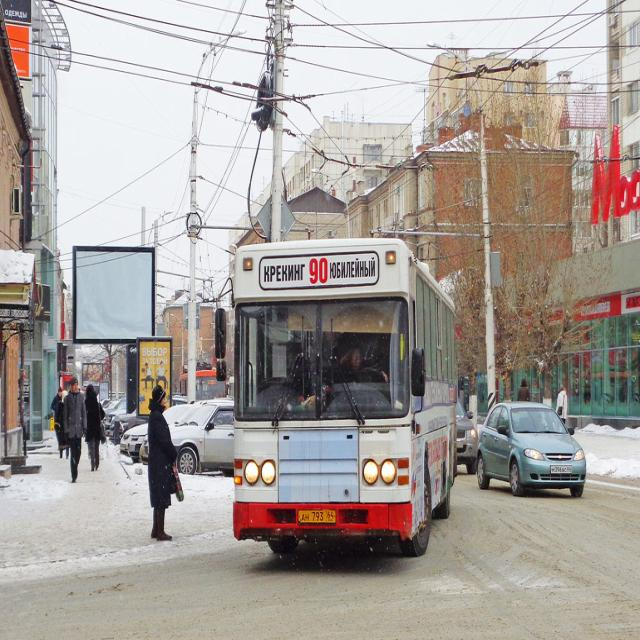number-of-bus: (308, 255, 331, 295)
